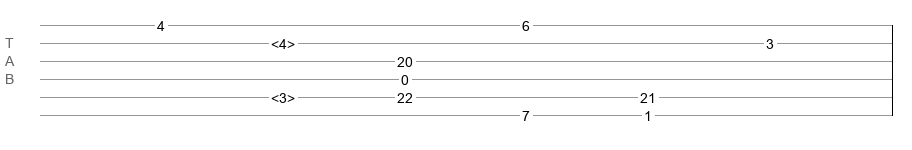0: (401, 72, 409, 82)
1: (644, 108, 652, 118)
20: (397, 54, 413, 64)
21: (640, 90, 656, 100)
22: (397, 90, 413, 100)
3: (766, 36, 774, 46)
4: (157, 18, 165, 28)
6: (522, 18, 530, 28)
7: (522, 108, 530, 118)
harmonic: (271, 36, 295, 46), (271, 90, 295, 100)
